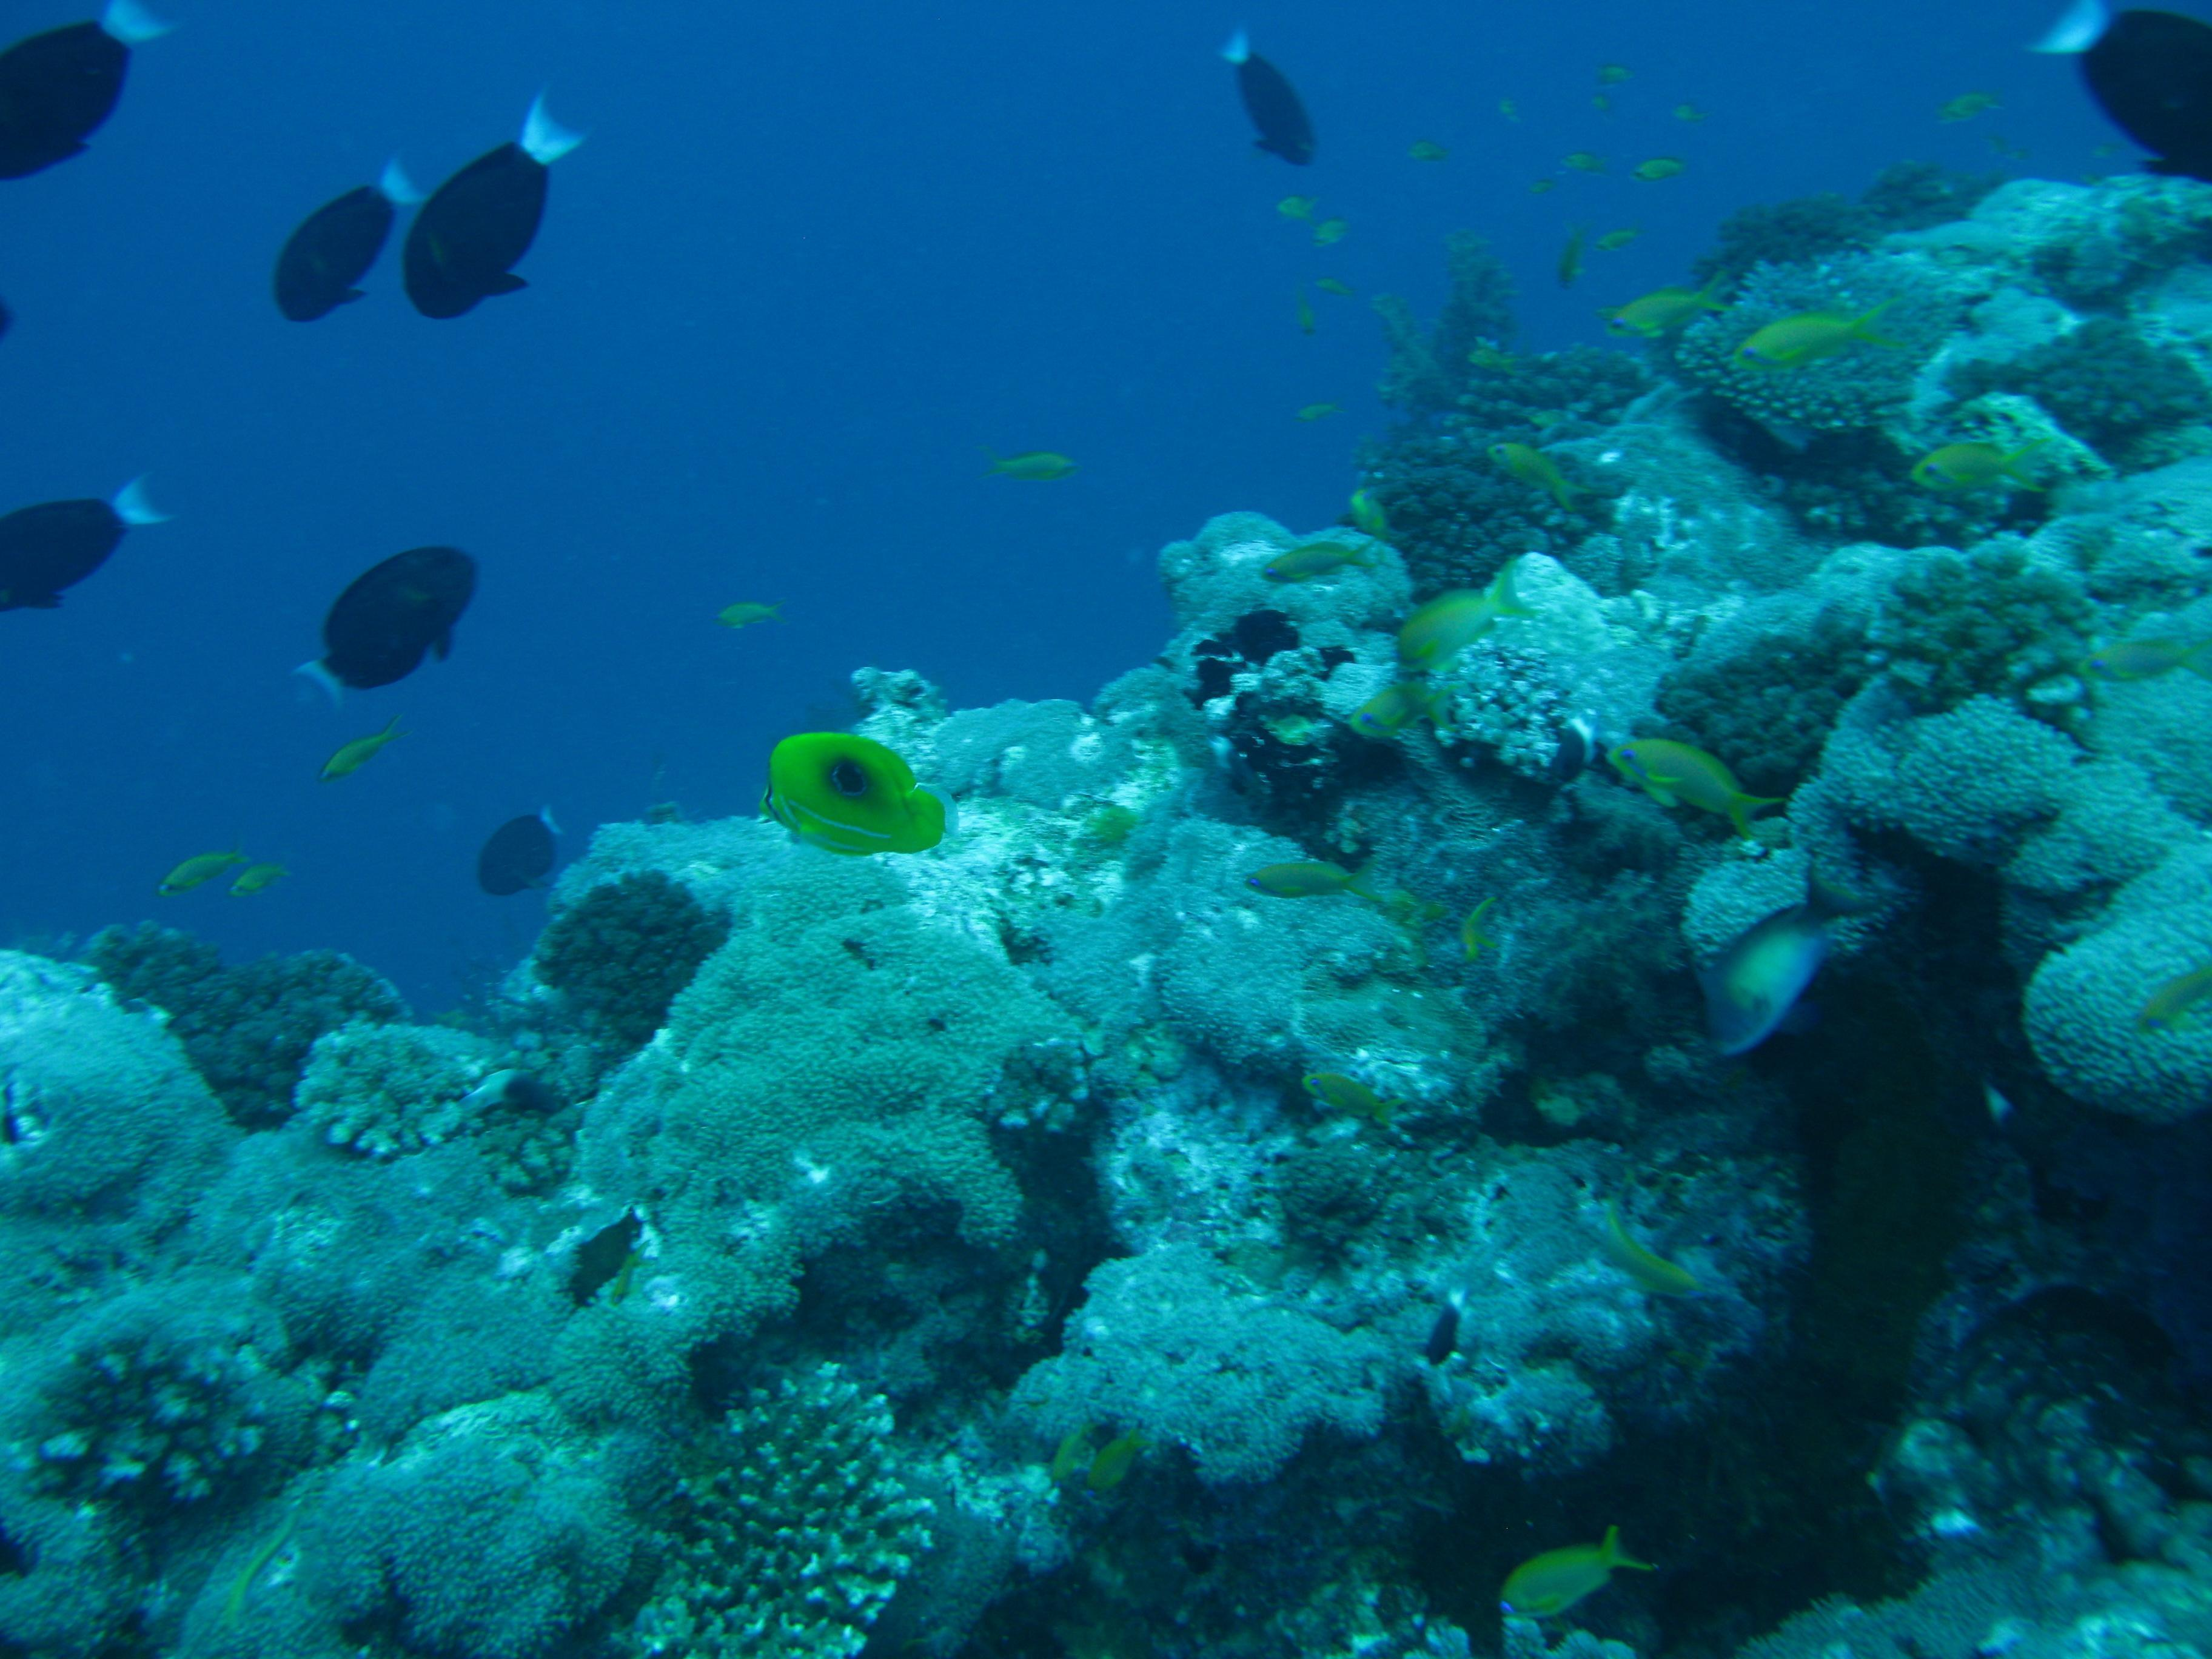Fish: (723, 697, 981, 890)
